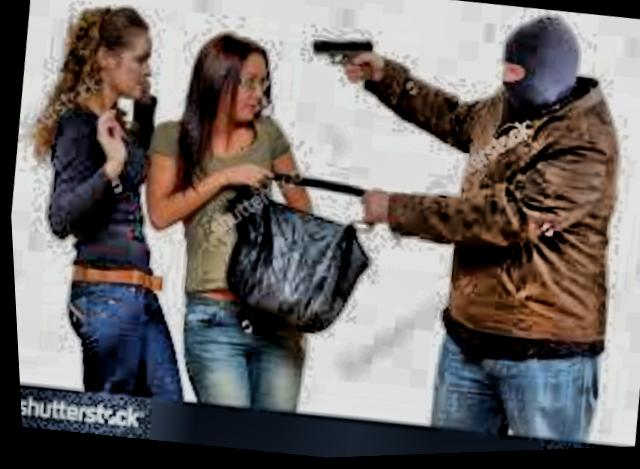pistol: (302, 24, 390, 95)
